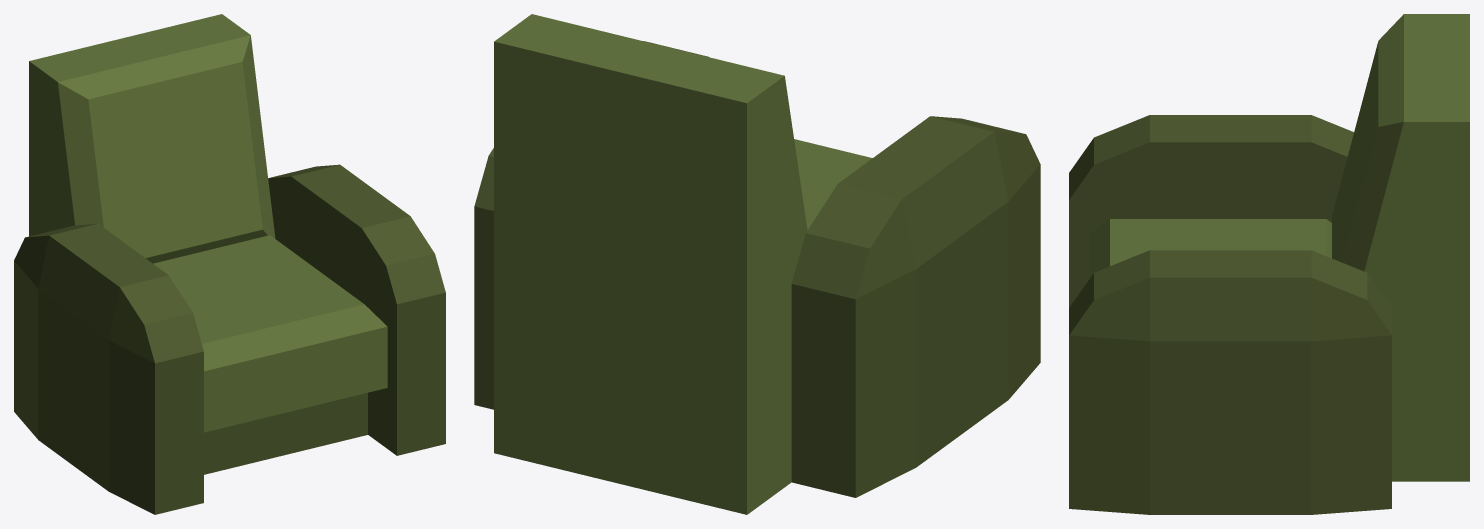
The model's file is g_o_SofaChair_01.fbx.
3 views of the same model, side by side, from view 1: azimuth 30°, elevation 25°; view 2: azimuth 150°, elevation 25°; view 3: azimuth 270°, elevation 25° (orthographic). The views are drawn at different scales.
Visible parts, largest first — view 1: g_o_SofaChair_01; view 2: g_o_SofaChair_01; view 3: g_o_SofaChair_01.
Part boxes in pixels (<box>): g_o_SofaChair_01: <box>14,14,445,514</box>; g_o_SofaChair_01: <box>474,14,1040,514</box>; g_o_SofaChair_01: <box>1069,14,1469,514</box>.
Bounding box in the file's own units: 78.4 × 75.25 × 75.97.
